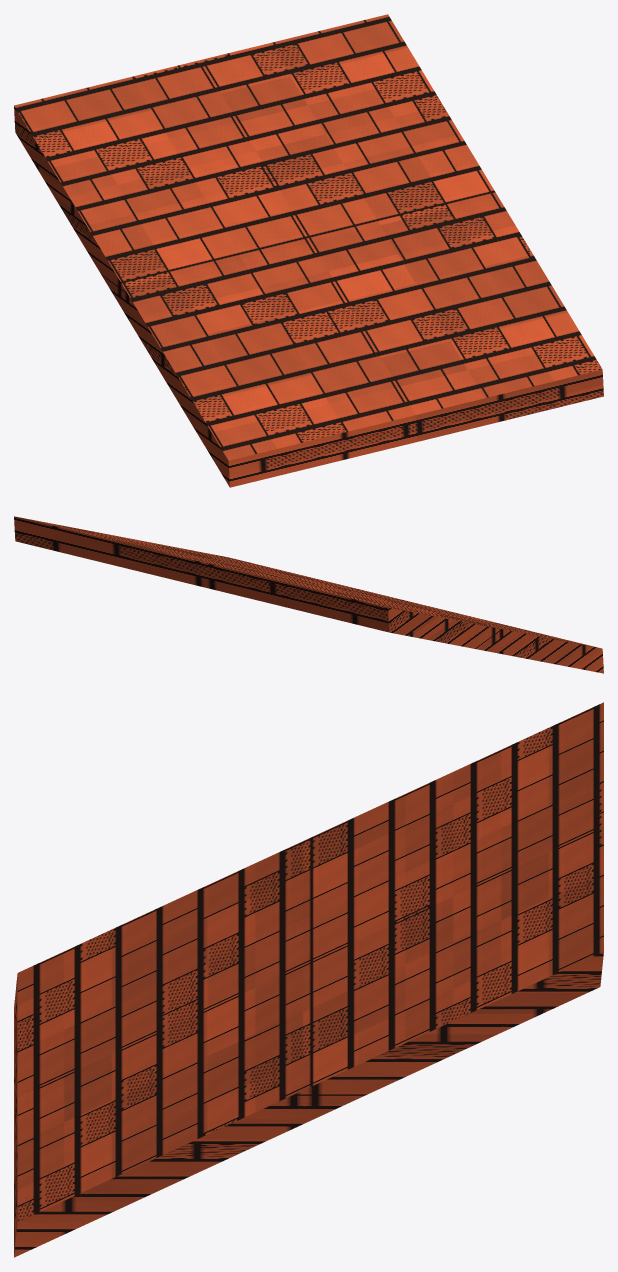
Rendered from theodosian red roof triangle.glb.
The picture shows the model from 3 angles, top to bottom: view 1: azimuth 30°, elevation 25°; view 2: azimuth 150°, elevation 25°; view 3: azimuth 270°, elevation 25°; orthographic projection. The views are drawn at different scales.
Visible parts, largest first — view 1: Theodosian_red_triangle; view 2: Theodosian_red_triangle; view 3: Theodosian_red_triangle.
Boxes of the visible parts, left/top/right/bottom form: Theodosian_red_triangle: left=14, top=14, right=603, bottom=487; Theodosian_red_triangle: left=14, top=516, right=603, bottom=673; Theodosian_red_triangle: left=14, top=702, right=603, bottom=1257.
Size of the model in its own units: 1 by 0.5726 by 1.
Materials: 1 (1 with a texture image).
